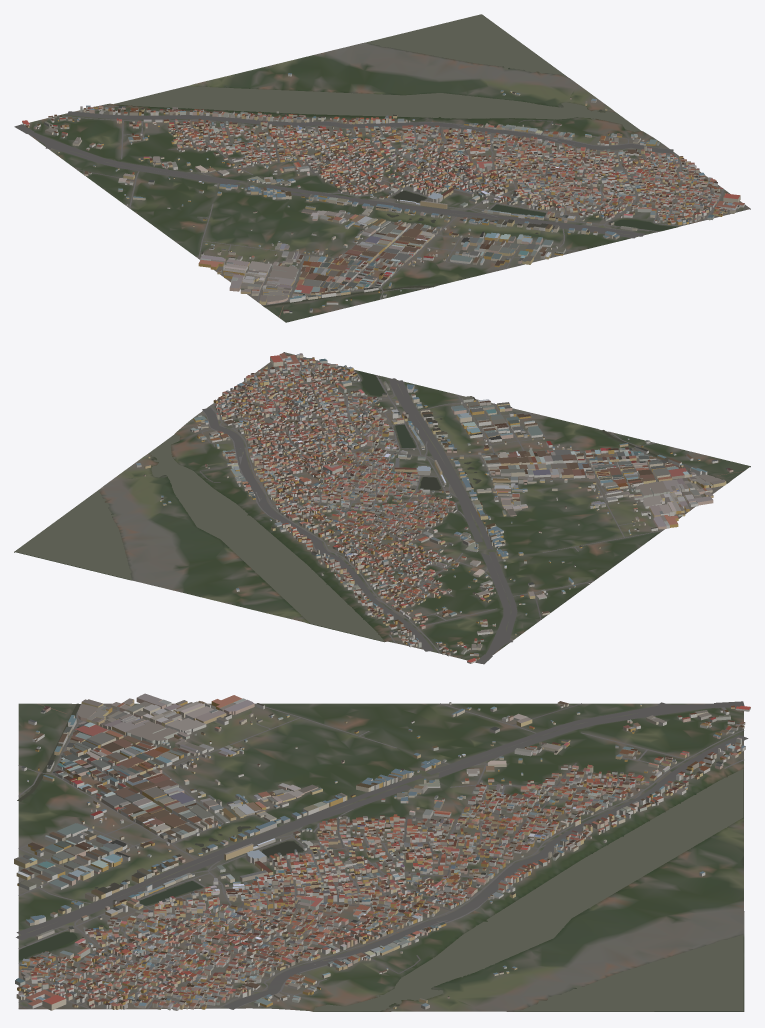
3 renders of one model, top to bottom at view 1: azimuth 30°, elevation 25°; view 2: azimuth 150°, elevation 25°; view 3: azimuth 270°, elevation 25°, orthographic. The views are drawn at different scales.
Parts seen in each view (by area): view 1: ground, buildings, water, roads; view 2: ground, buildings, water, roads; view 3: ground, buildings, water, roads.
Part boxes in pixels (x1,y1,x2,y2): ground: [22, 15, 750, 322]; buildings: [22, 73, 744, 313]; water: [113, 14, 675, 306]; roads: [14, 105, 750, 317]; ground: [14, 352, 750, 662]; buildings: [136, 353, 733, 663]; water: [15, 371, 729, 641]; roads: [199, 352, 743, 664]; ground: [18, 703, 744, 1011]; buildings: [14, 693, 750, 1010]; water: [17, 703, 743, 1011]; roads: [16, 701, 748, 1009].
Size of the model in its own units: 1435 by 24.71 by 1424.
